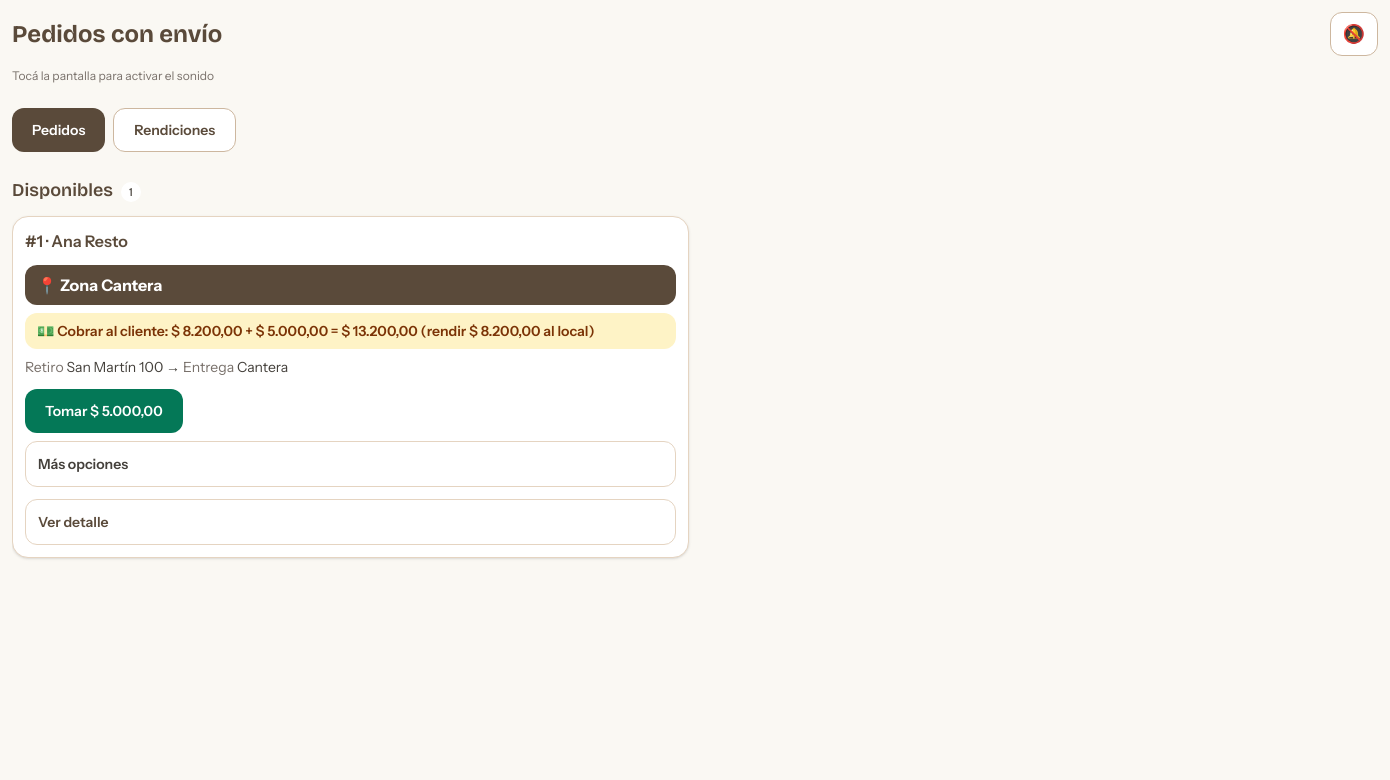
Test: tablero del repartidor — ENVIO-76 a 78 › precio fijo: si lo tomó otro, dice 'Ya lo tomó otro repartidor'
The width and height of the screenshot is (1390, 780).
Click the button "Tomar $ 5.000,00" at (104,411), box [25,389,183,433]
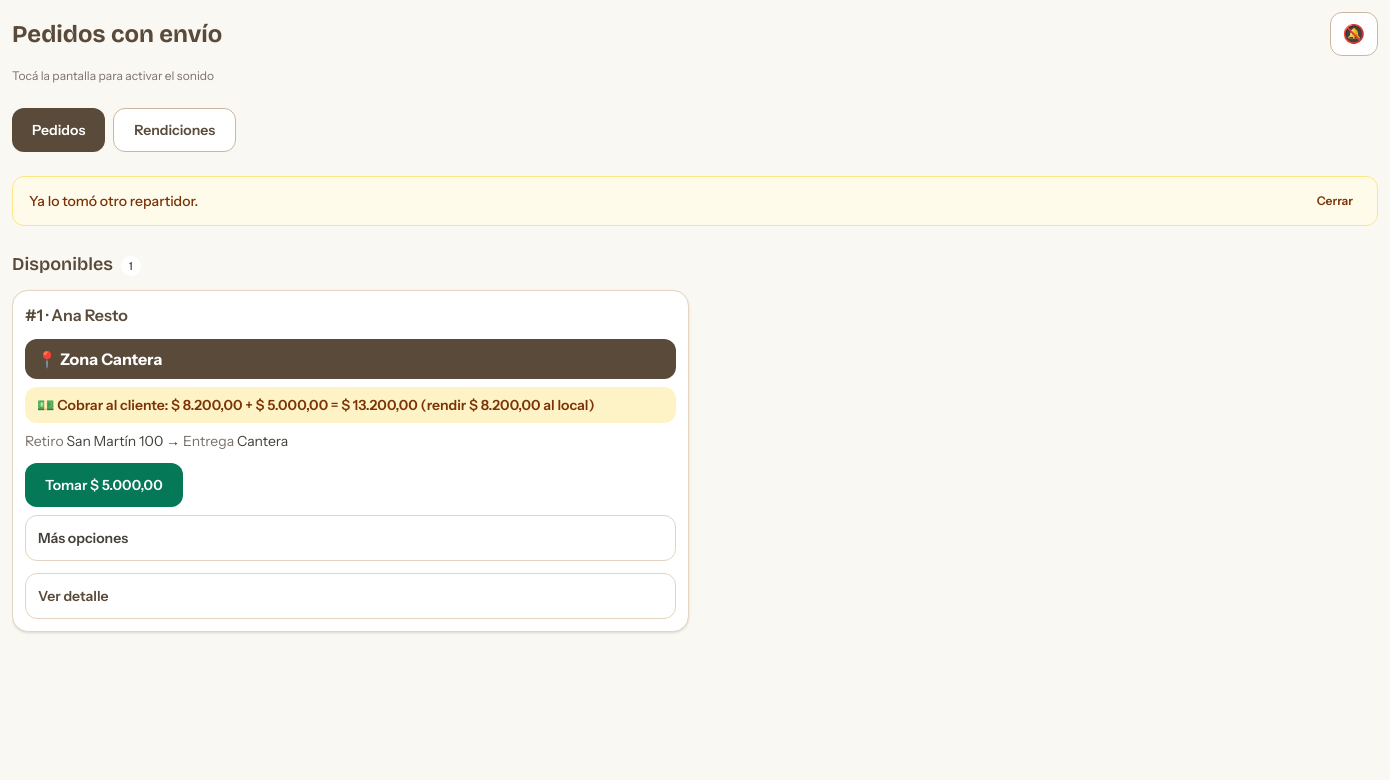
expect the message shows "Ya lo tomó otro repartidor": met, box [29,192,198,210]
